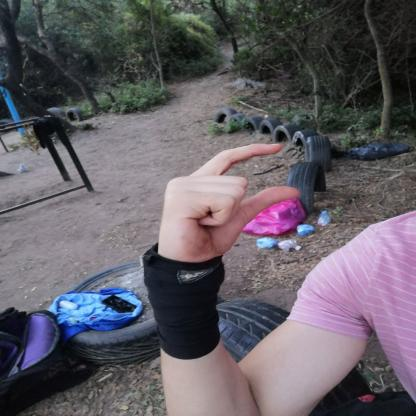DELL: (140, 132, 316, 276)
